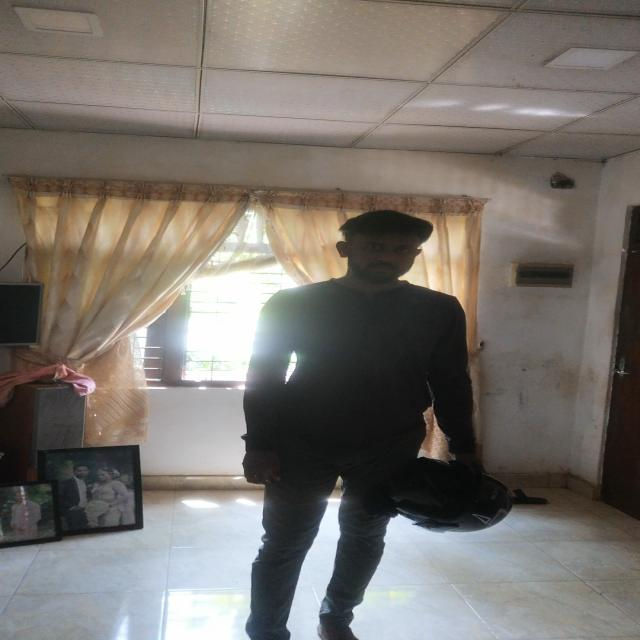Person: (250, 210, 476, 640)
